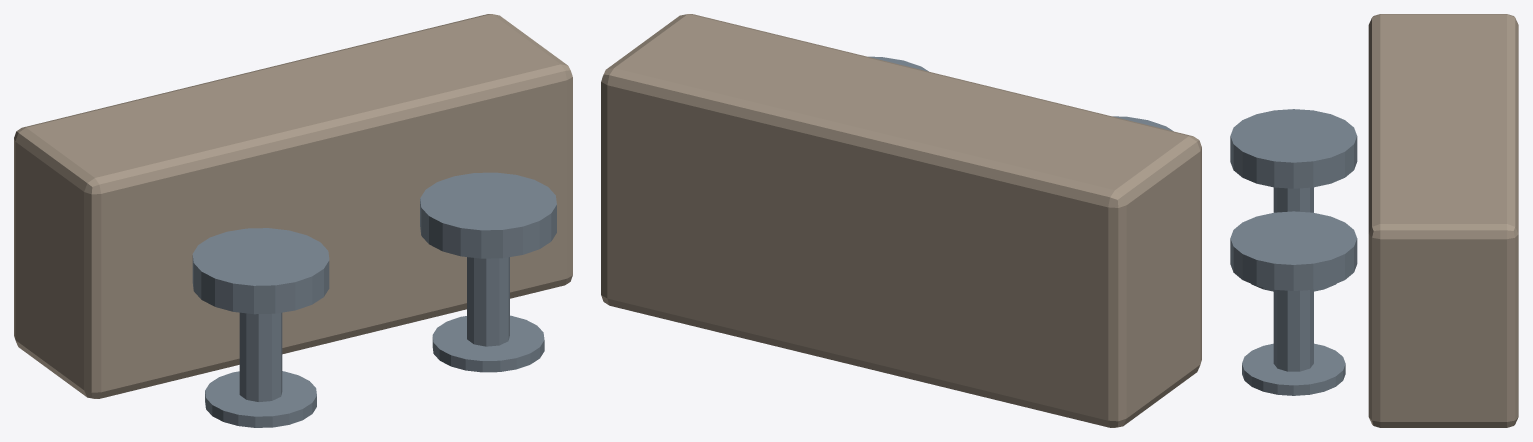
File: bar-2.glb
3 views of the same model, side by side, from view 1: azimuth 30°, elevation 25°; view 2: azimuth 150°, elevation 25°; view 3: azimuth 270°, elevation 25° (orthographic). The views are drawn at different scales.
Parts seen in each view (by area): view 1: Counter, Stool-1, Stool-2; view 2: Counter; view 3: Counter, Stool-2, Stool-1.
Boxes of the visible parts, x1,y1,x2,y2 form: Counter: [14, 14, 572, 398]; Stool-1: [192, 228, 329, 427]; Stool-2: [420, 172, 556, 372]; Counter: [601, 14, 1201, 427]; Counter: [1368, 14, 1518, 427]; Stool-2: [1230, 211, 1357, 395]; Stool-1: [1230, 109, 1357, 291].
Size of the model in its own units: 0.09 by 0.0391 by 0.05.
